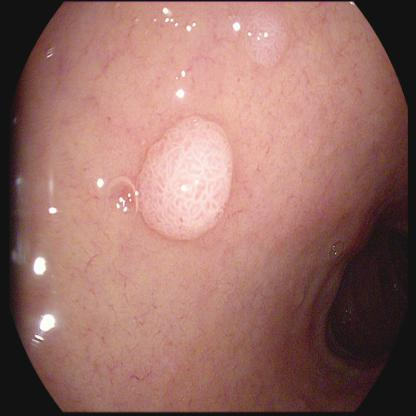Polyps: (134, 110, 234, 242)
